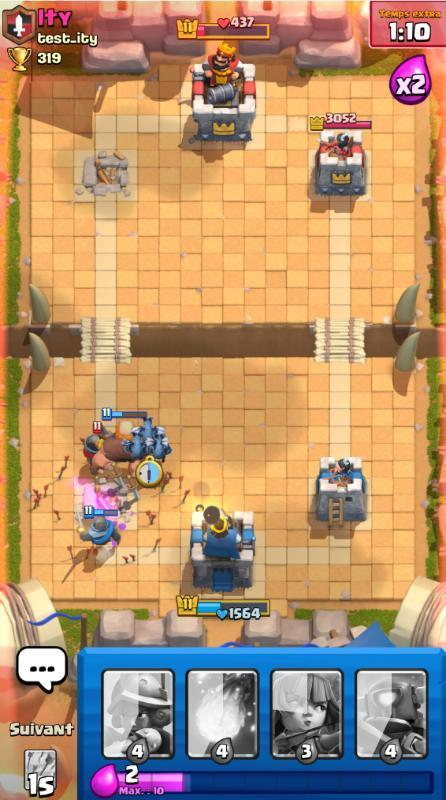enemy_knight: (80, 420, 108, 457)
player_giant: (100, 413, 132, 476)
player_knight: (71, 503, 127, 557)
player_minions: (128, 418, 156, 452), (147, 425, 173, 461)
